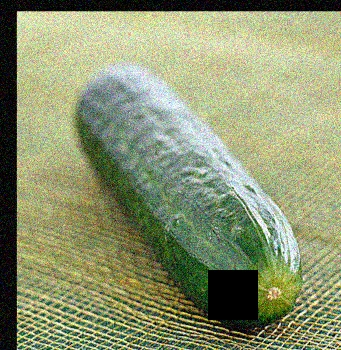cucumber: (74, 64, 301, 324)
